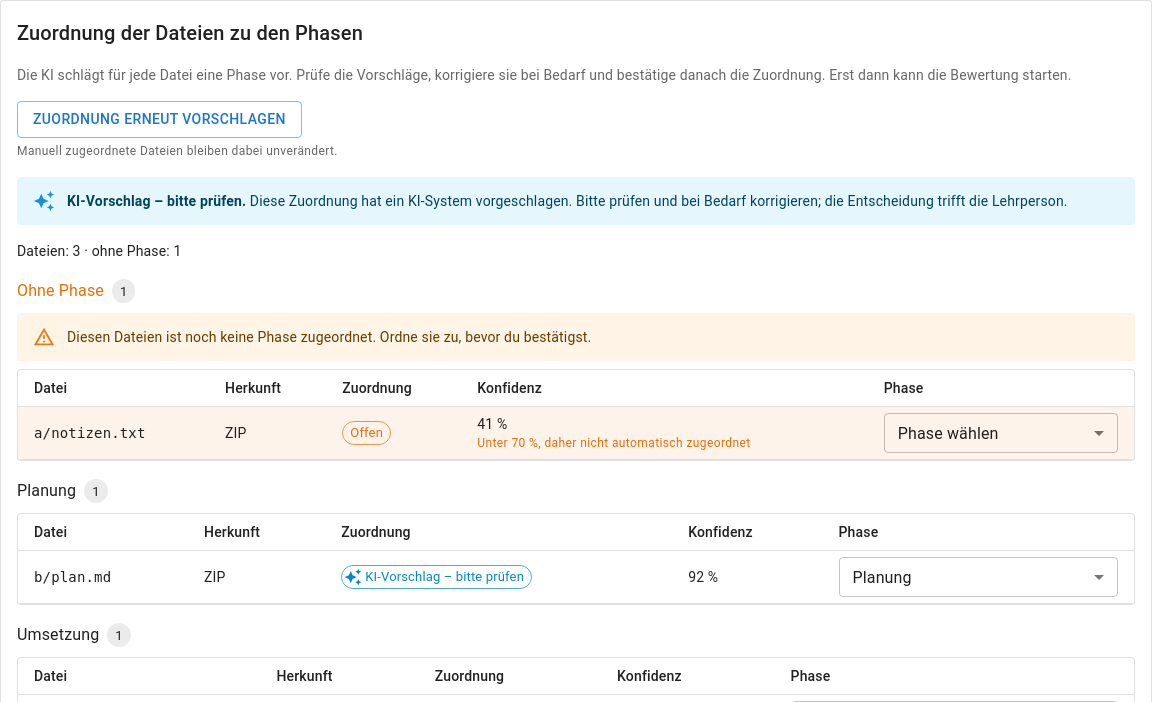
Test case: PortfolioClassificationPanel › zeigt einen Korrekturfehler übersetzt an
Select "Umsetzung" in the dropdown with test id "portfolio-classification-phase-1". click: (978, 578)
box: [838, 558, 1118, 598]
(page scrolled)
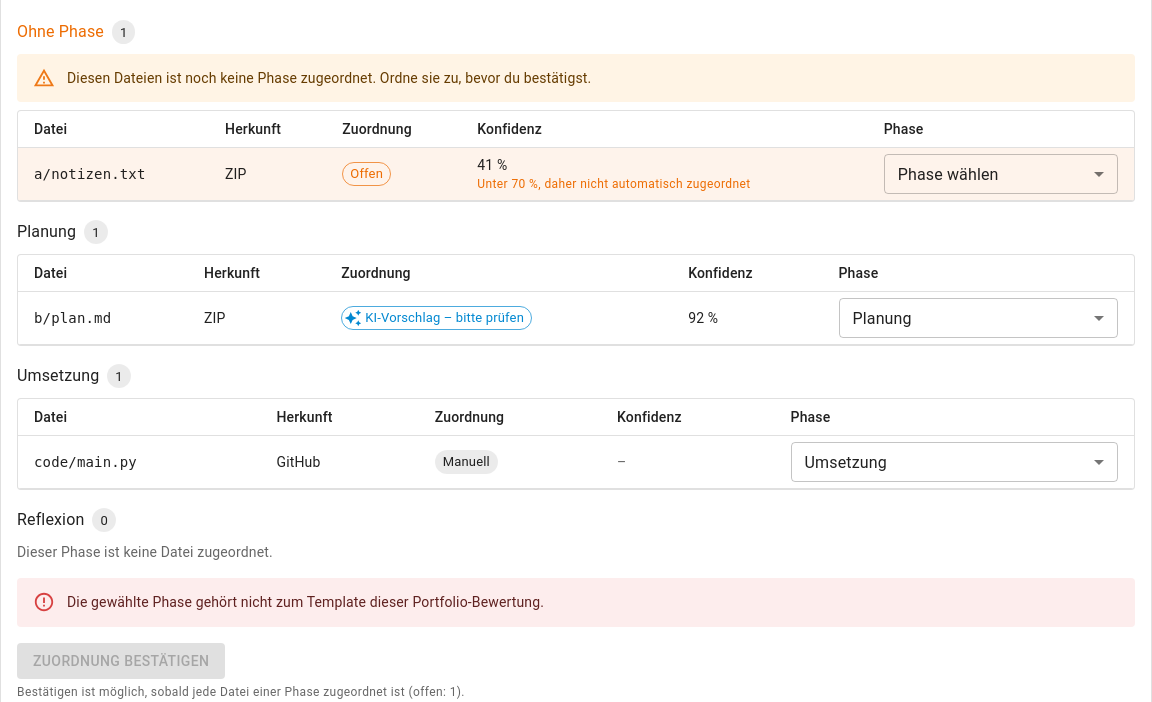
expect the text "Die gewählte Phase gehört nicht" is shown: met, box [67, 594, 544, 610]
